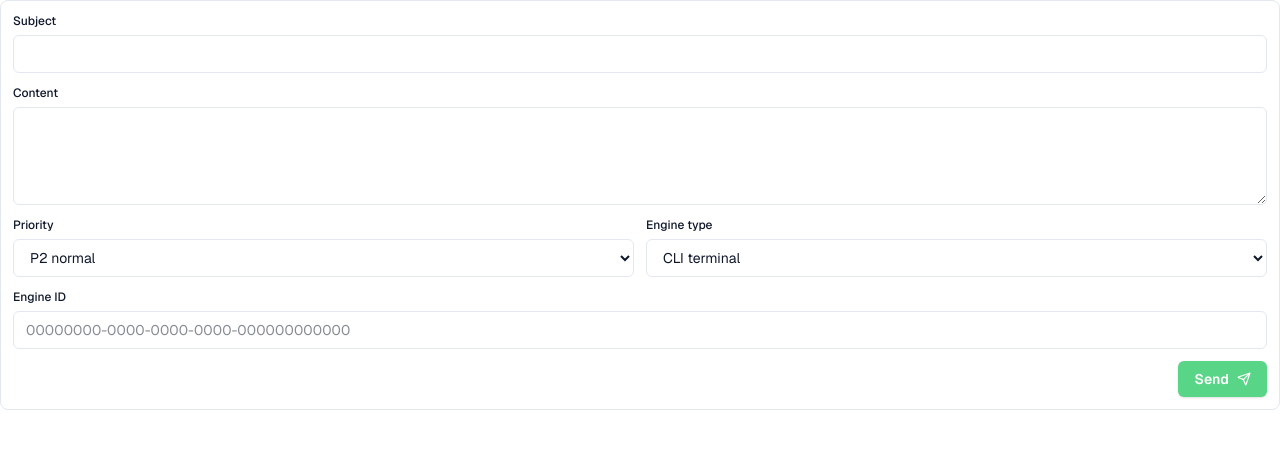
Test: MessageComposer › shows a validation error when engineId is not a UUID
This screenshot has width=1280, height=449.
Type "Hello" into the field labelled "Subject". click: (640,54)
box: left=13, top=35, right=1267, bottom=73
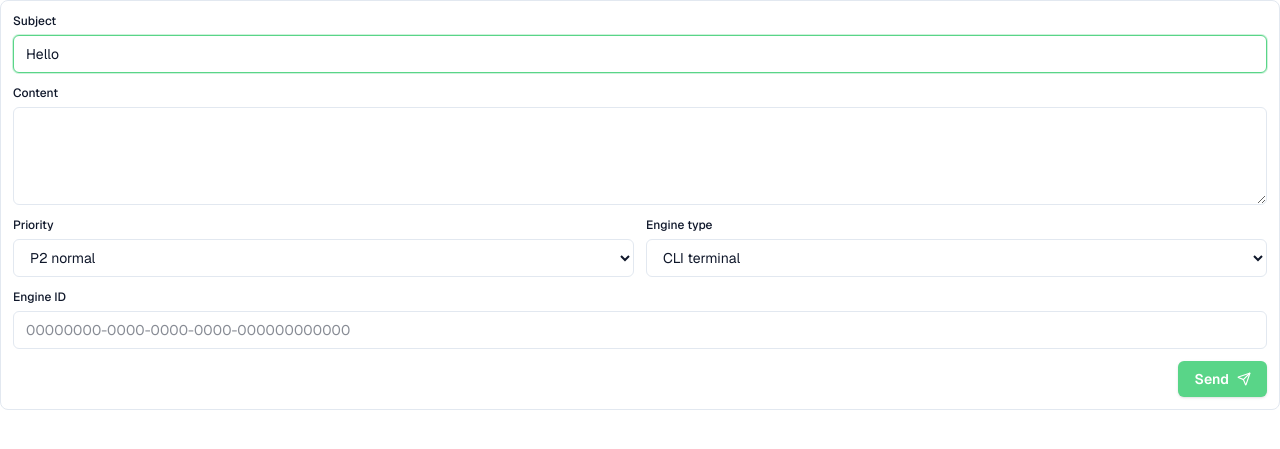
Type "Hi" into the text box labelled "Content". click: (640,156)
box: left=13, top=107, right=1267, bottom=205
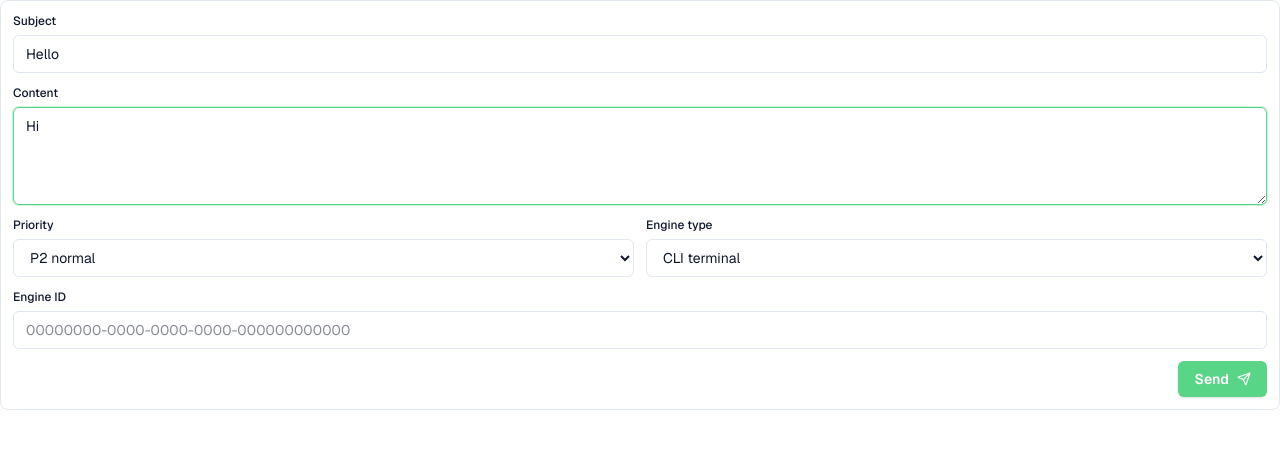
Type "not-a-uuid" into the field labelled "Engine ID". click: (640,330)
box: left=13, top=311, right=1267, bottom=349
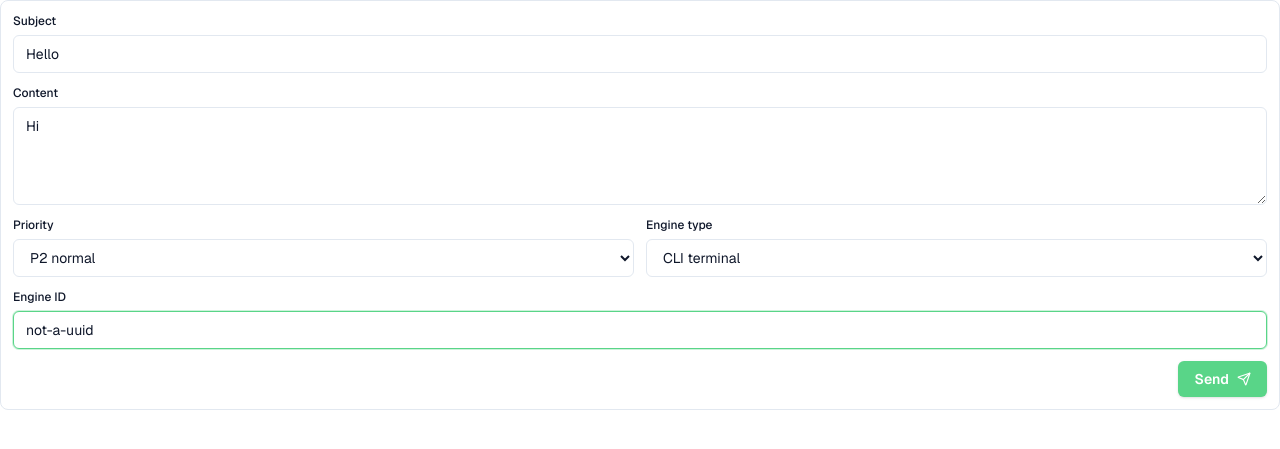
Click the button "Send". click: (1223,379)
box: left=1178, top=361, right=1267, bottom=397
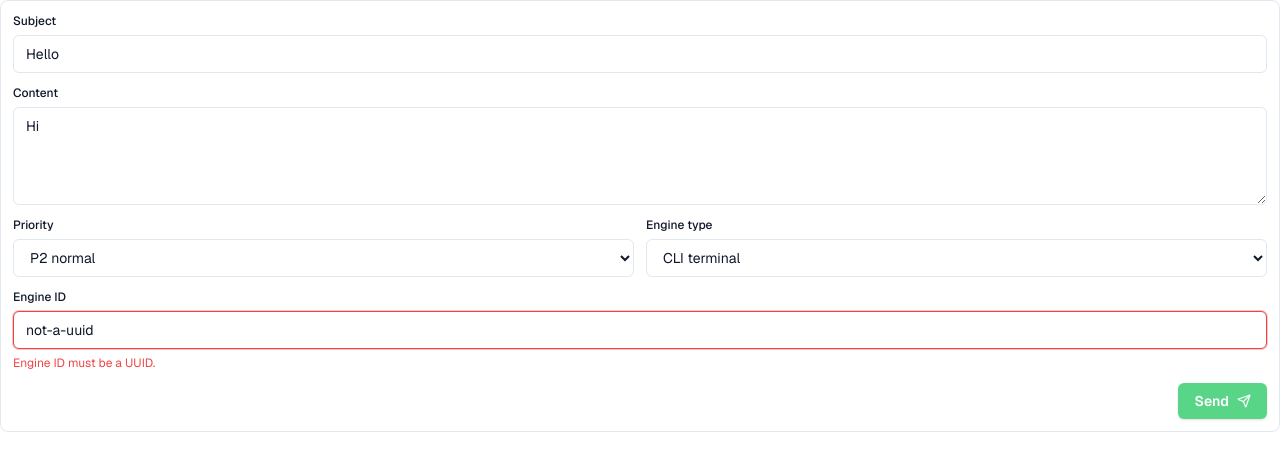
Expected: the text "Engine ID must be a UUID." is shown, left=13, top=355, right=155, bottom=371
